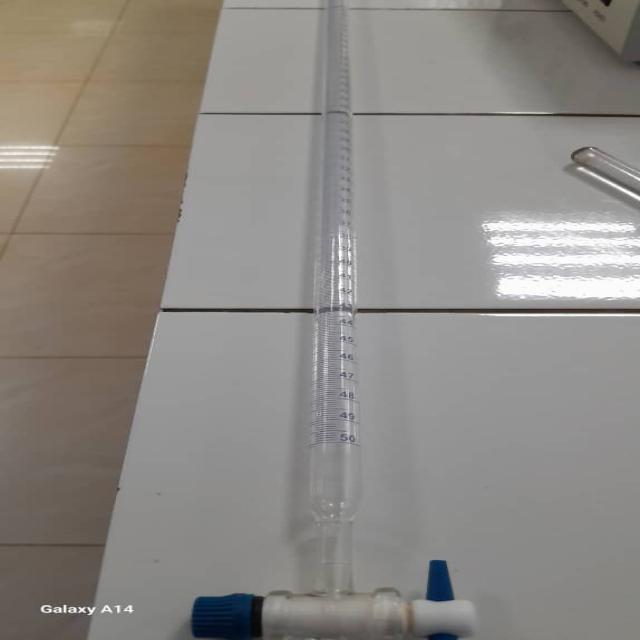Biurette: (163, 10, 495, 640)
